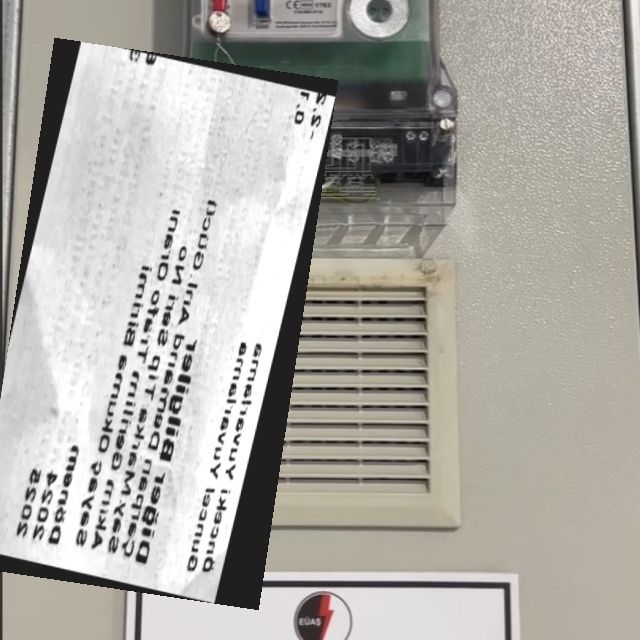electricity-bill: (0, 38, 337, 610)
